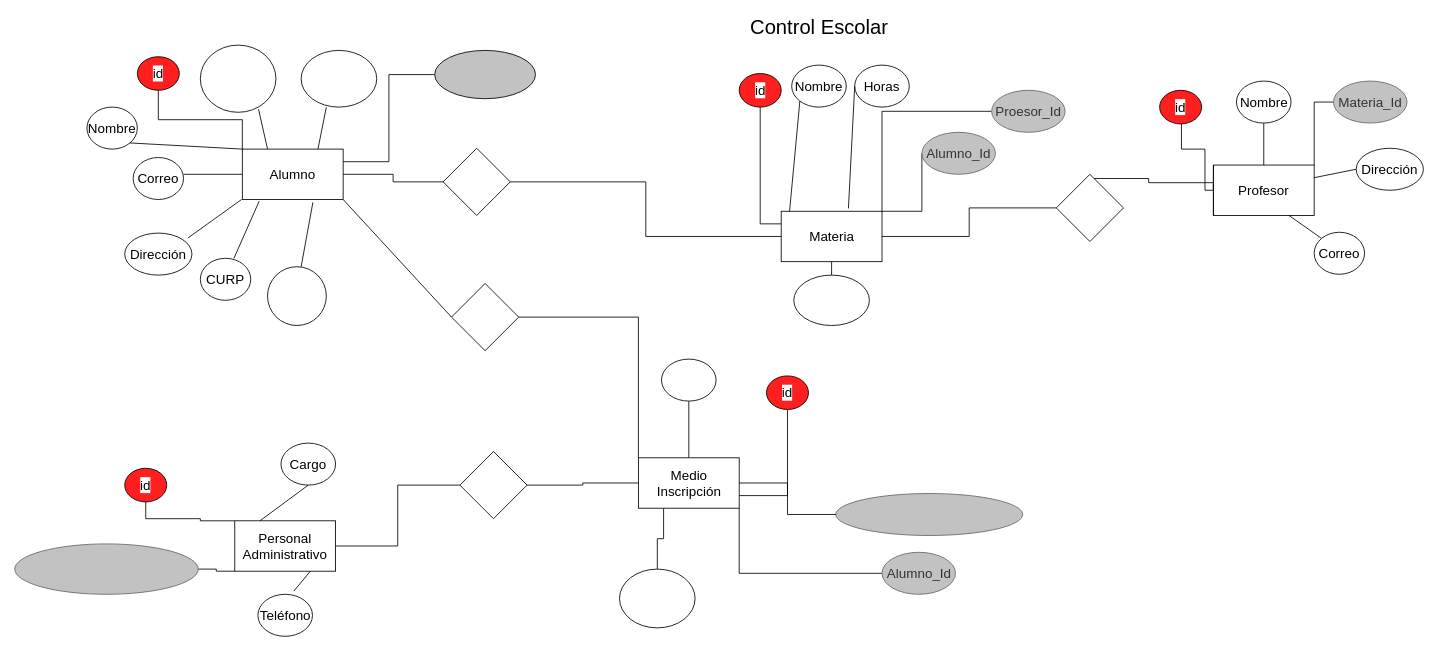
Some shapes in this 1438 by 651 pixel diagram are drawn without their labels. Here are the shapes that lost their labels. From the top down, the centre of each, then its label:
At pixel 238 78: "Fecha Nacimiento".
At pixel 338 78: "Fecha Inscripción".
At pixel 485 74: "Inscripción_Id".
At pixel 476 181: "Registra".
At pixel 1089 207: "Asigna".
At pixel 296 296: "Grado a Cursar".
At pixel 831 300: "Calificación Minima".
At pixel 485 317: "Realiza".
At pixel 688 379: "Internet".
At pixel 493 485: "Opera".
At pixel 929 514: "PersonalAdministrativo_Id".
At pixel 106 568: "MediodeInscripcion_Id".
At pixel 657 598: "Presencial".
